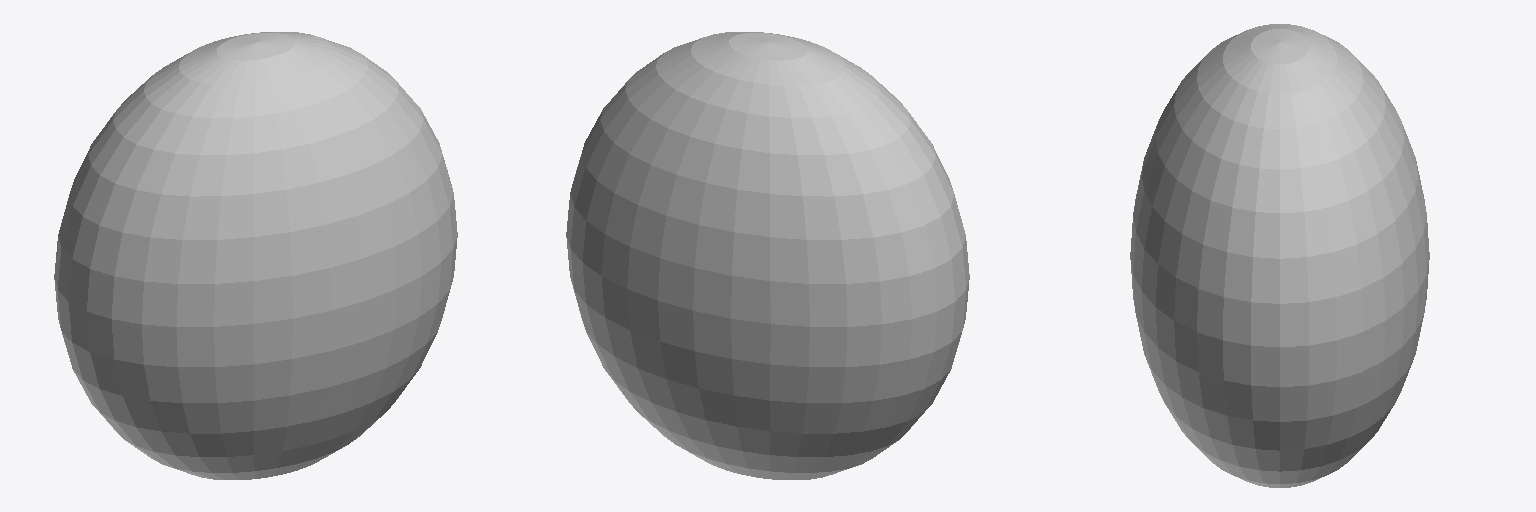
Rendered from prawe-tylnie.obj.
3 views of the same model, side by side, from view 1: azimuth 30°, elevation 25°; view 2: azimuth 150°, elevation 25°; view 3: azimuth 270°, elevation 25° (orthographic).
Parts seen in each view (by area): view 1: Sphere; view 2: Sphere; view 3: Sphere.
Part boxes in pixels (x1,y1,x2,y2): Sphere: (54, 32, 457, 479); Sphere: (566, 32, 969, 479); Sphere: (1130, 24, 1429, 487).
Size of the model in its own units: 1.03 by 1.12 by 0.7119.